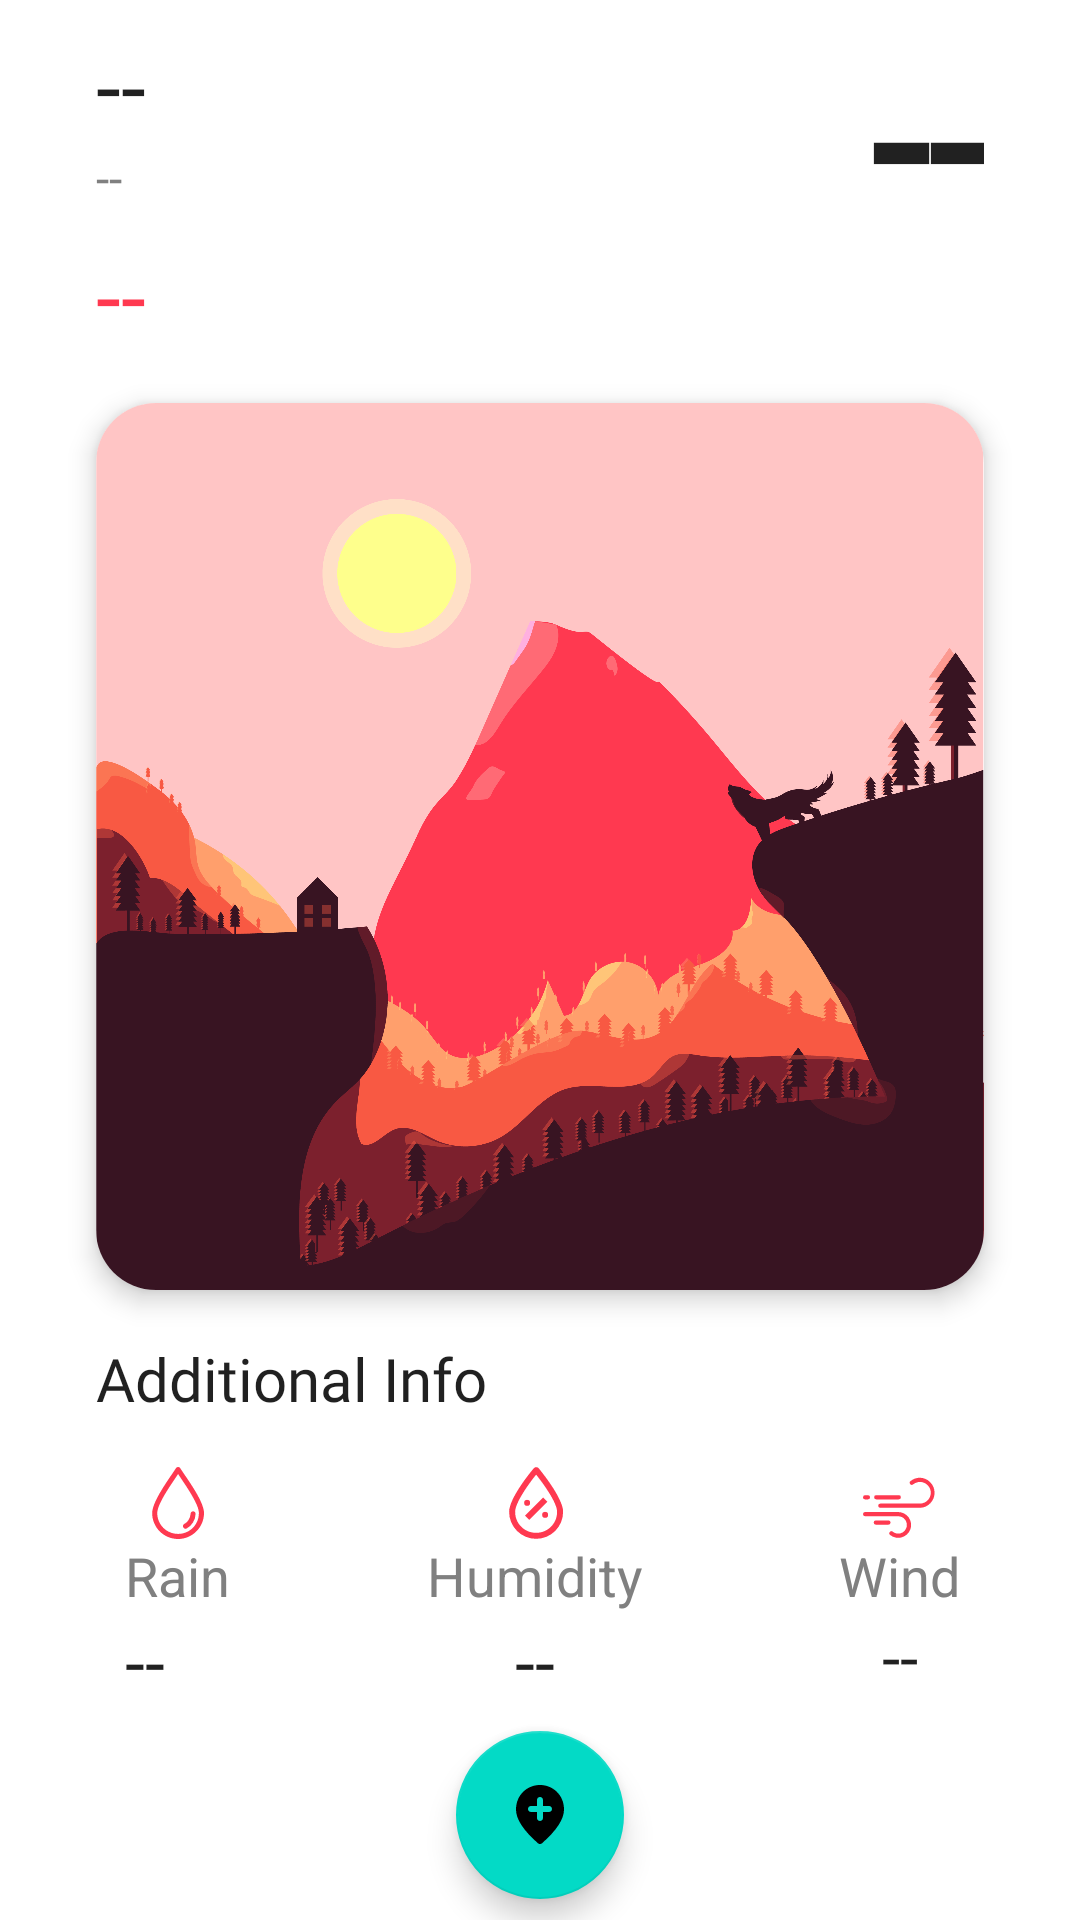

Screen size 1080x1920. Icon name, then its box in pixels as [x1,y1,x2,y2]:
add location: [456,1731,624,1899]
